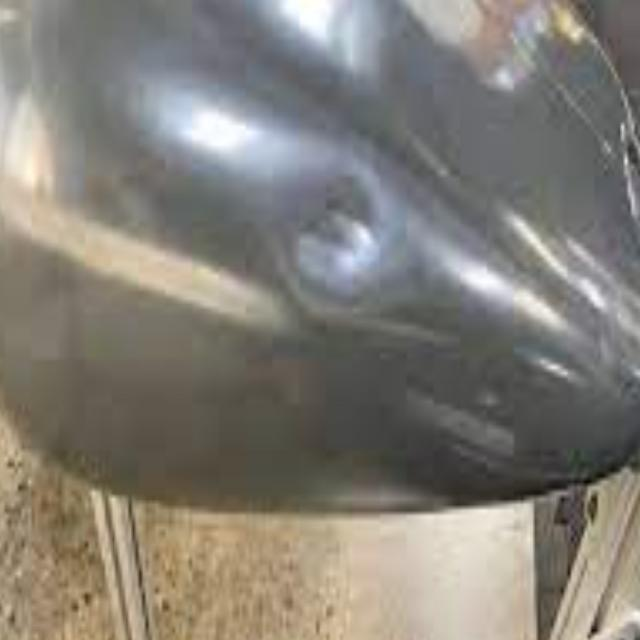dents: (292, 162, 392, 347)
